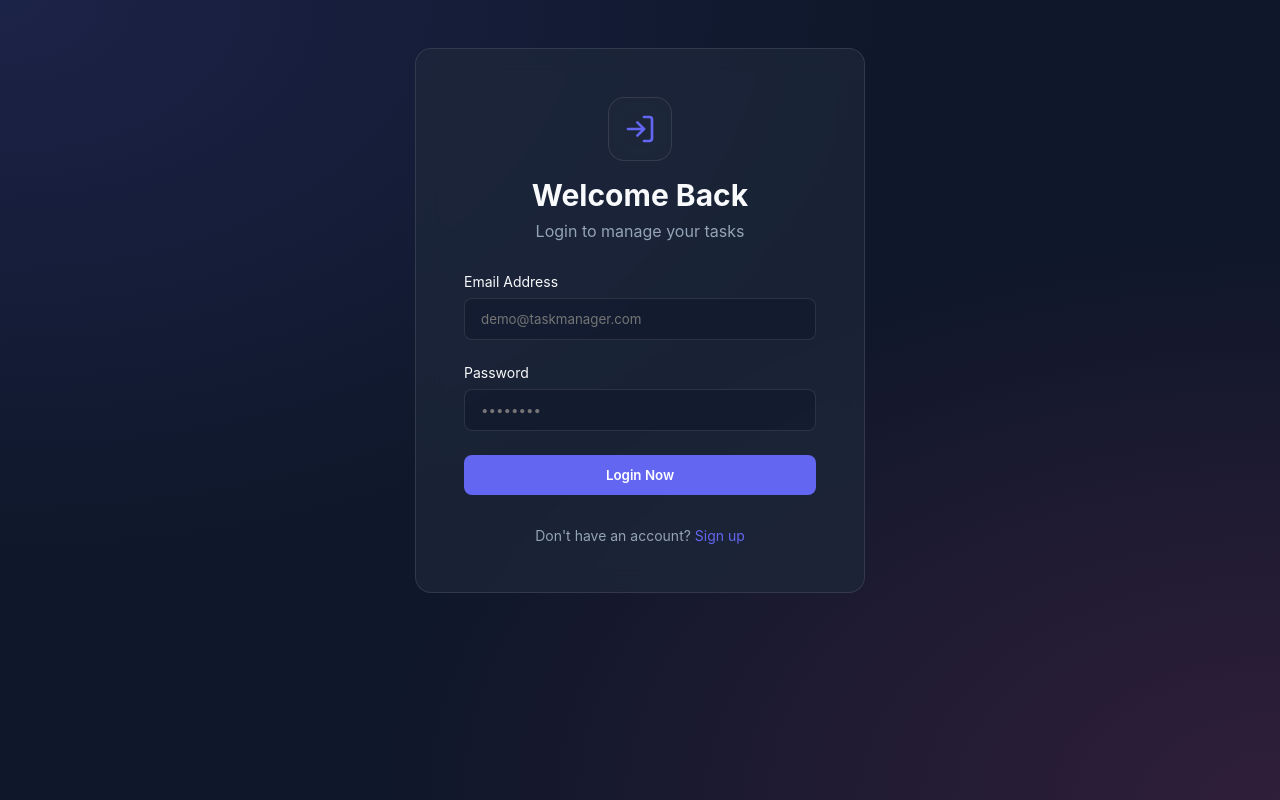
Test: LoginPage › should show error message on login failure
In the field labelled "Email Address": coordinates (640, 318) [464,298,816,340], type "test@test.com"
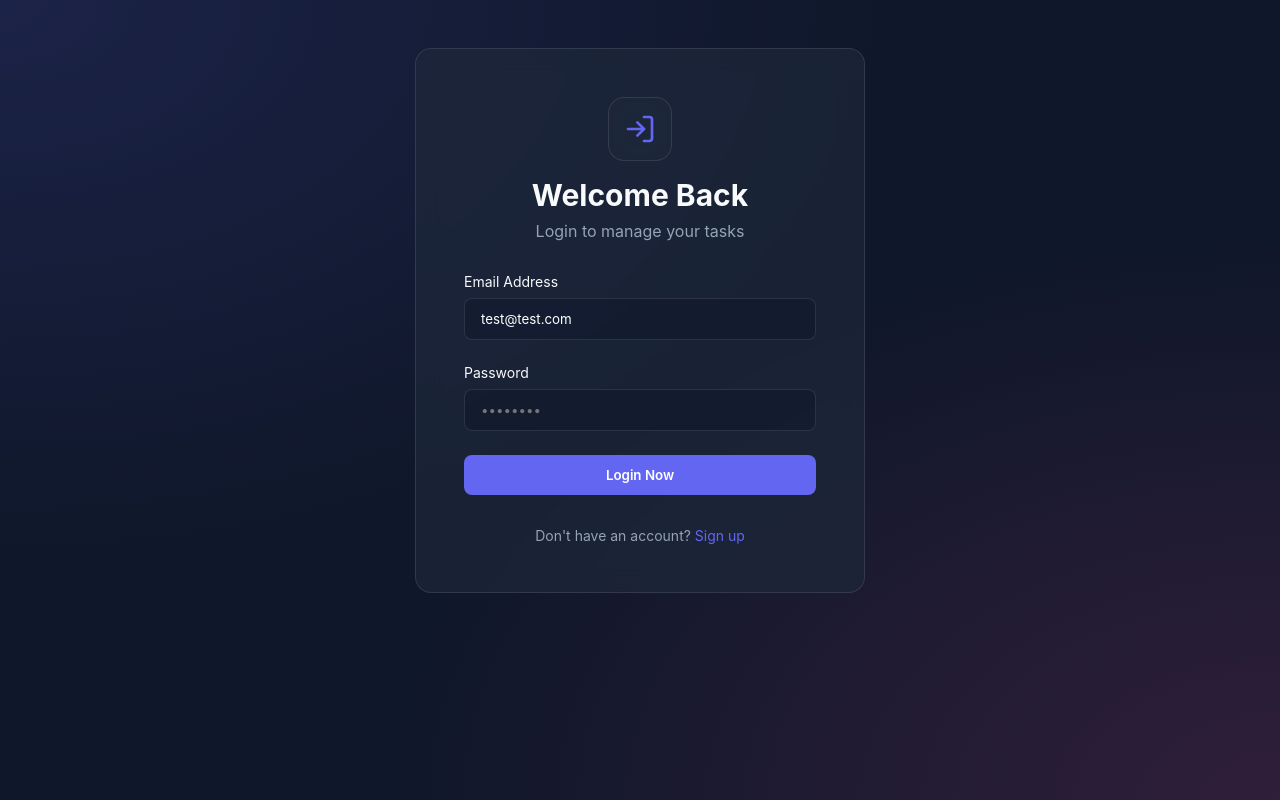
In the password field labelled "Password": coordinates (640, 410) [464,388,816,430], type "wrong"
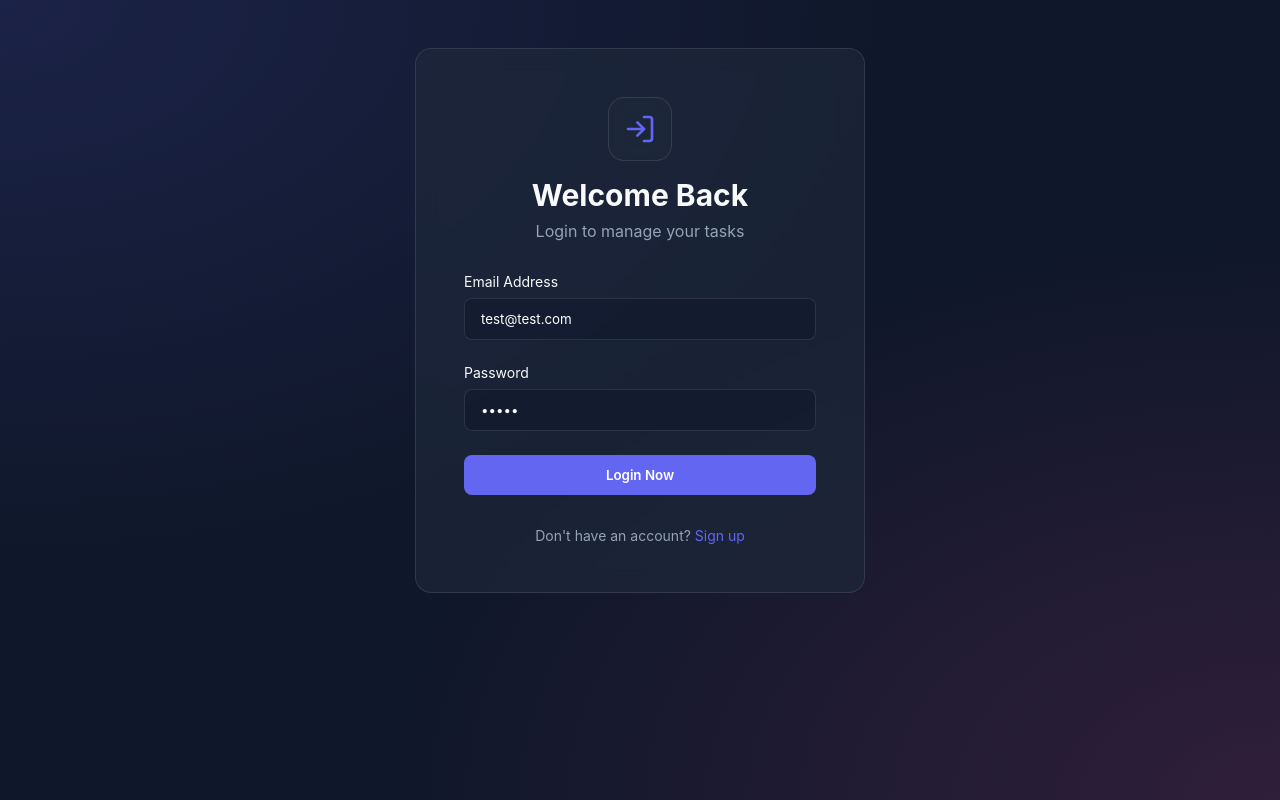
Click the button "Login Now": coordinates (640, 474) [464,454,816,494]
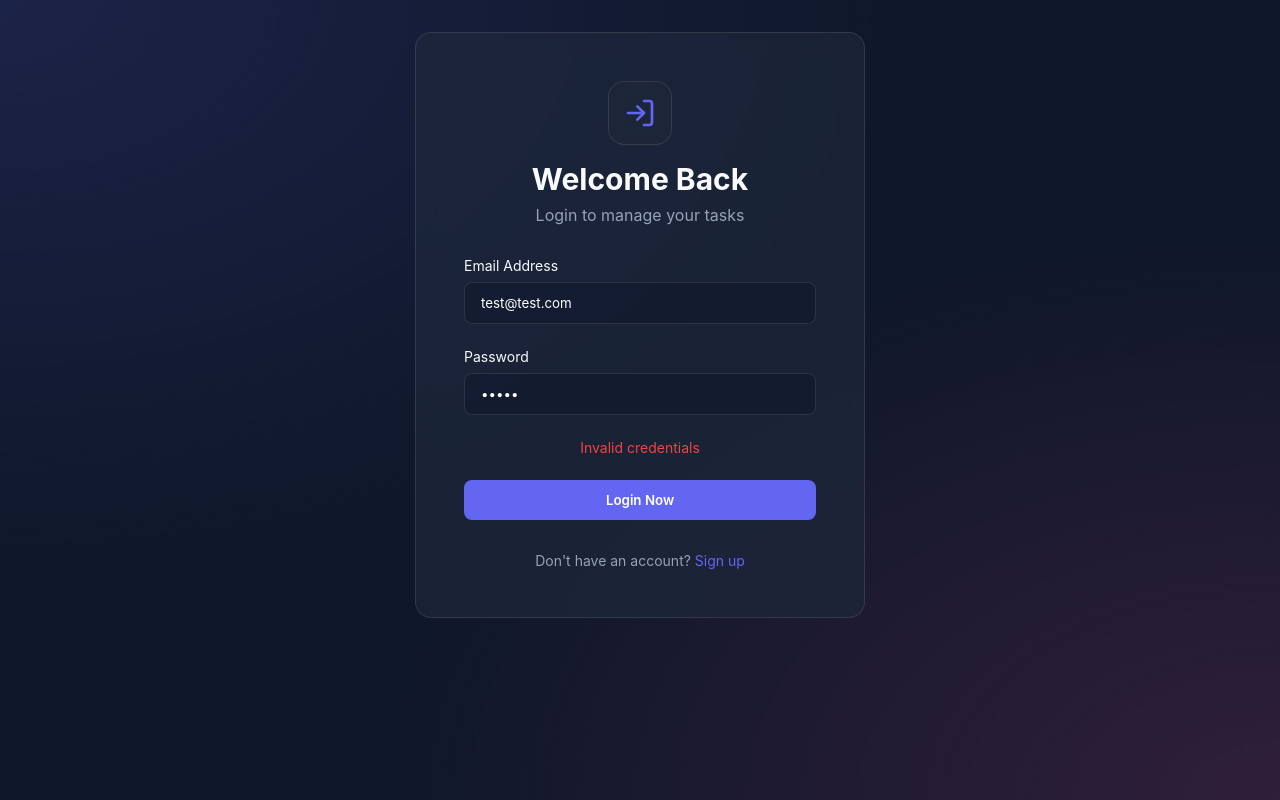
Result: the text "Invalid credentials" is shown at [580,439,700,456]
